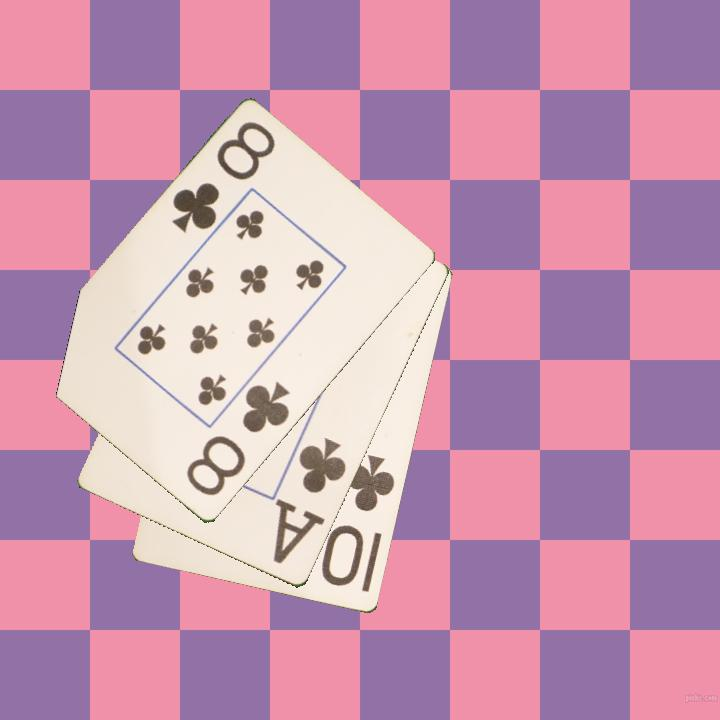10c: (320, 451, 398, 590)
8c: (182, 378, 294, 500), (168, 118, 279, 236)
Ac: (269, 434, 350, 568)
